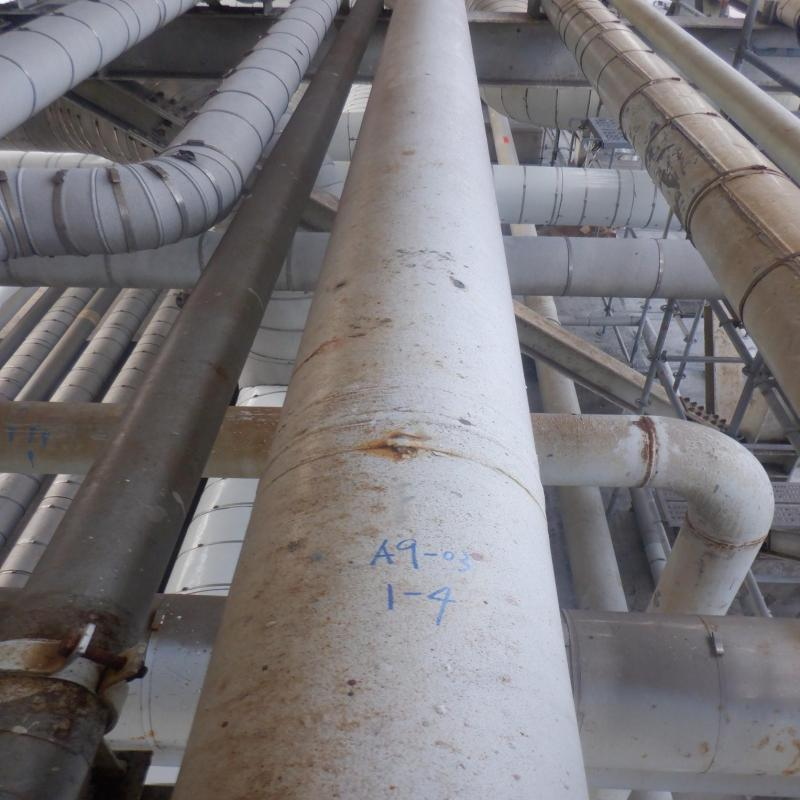corrosion: (347, 436, 438, 457)
